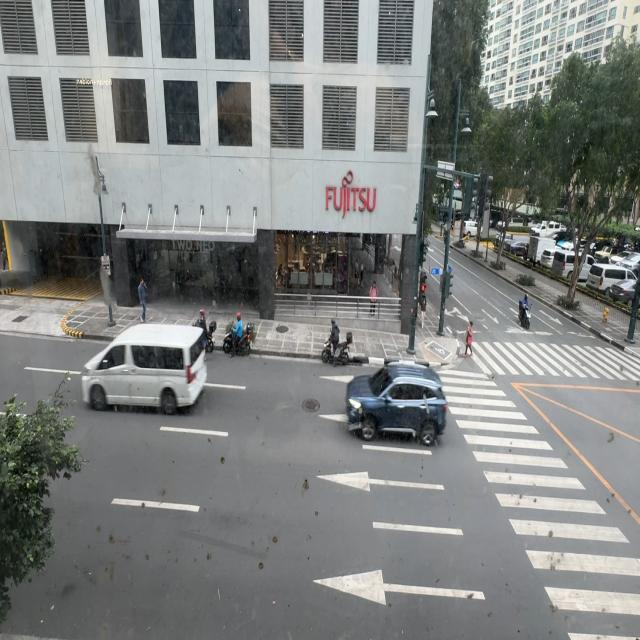crossing: (463, 320, 473, 358)
pedestrain: (138, 278, 148, 323), (369, 281, 378, 316), (419, 292, 426, 329), (354, 258, 360, 284), (358, 262, 364, 287)
